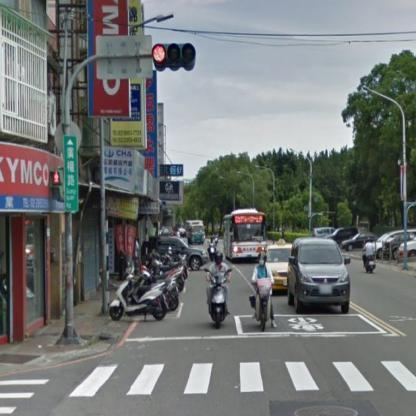Red Light: (152, 41, 198, 69)
